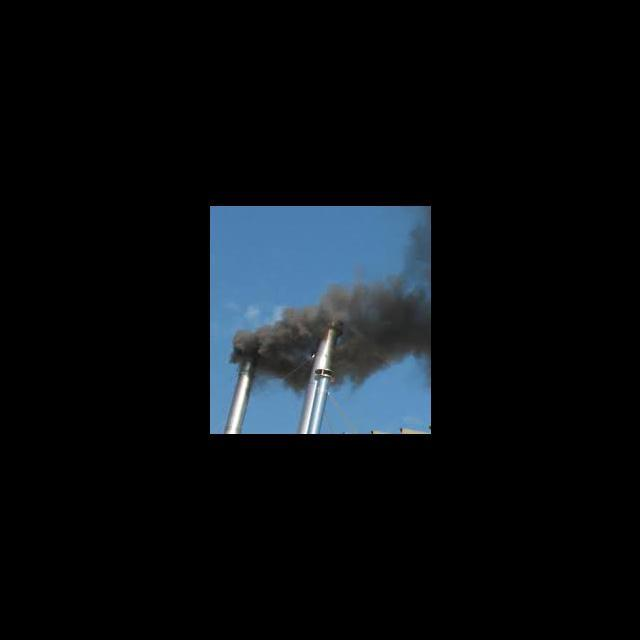Smoke: (229, 206, 430, 391)
